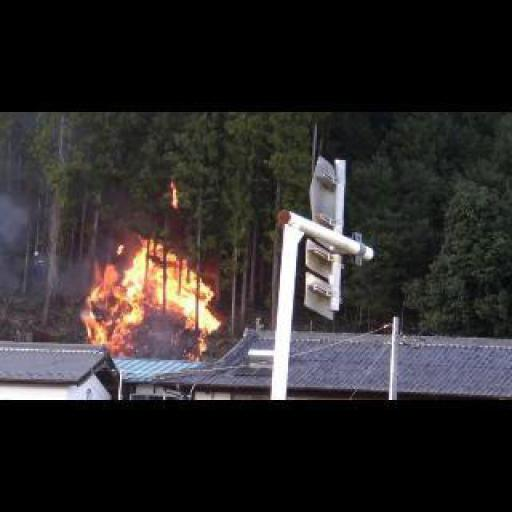smoke: (80, 234, 222, 358), (171, 179, 179, 208)
